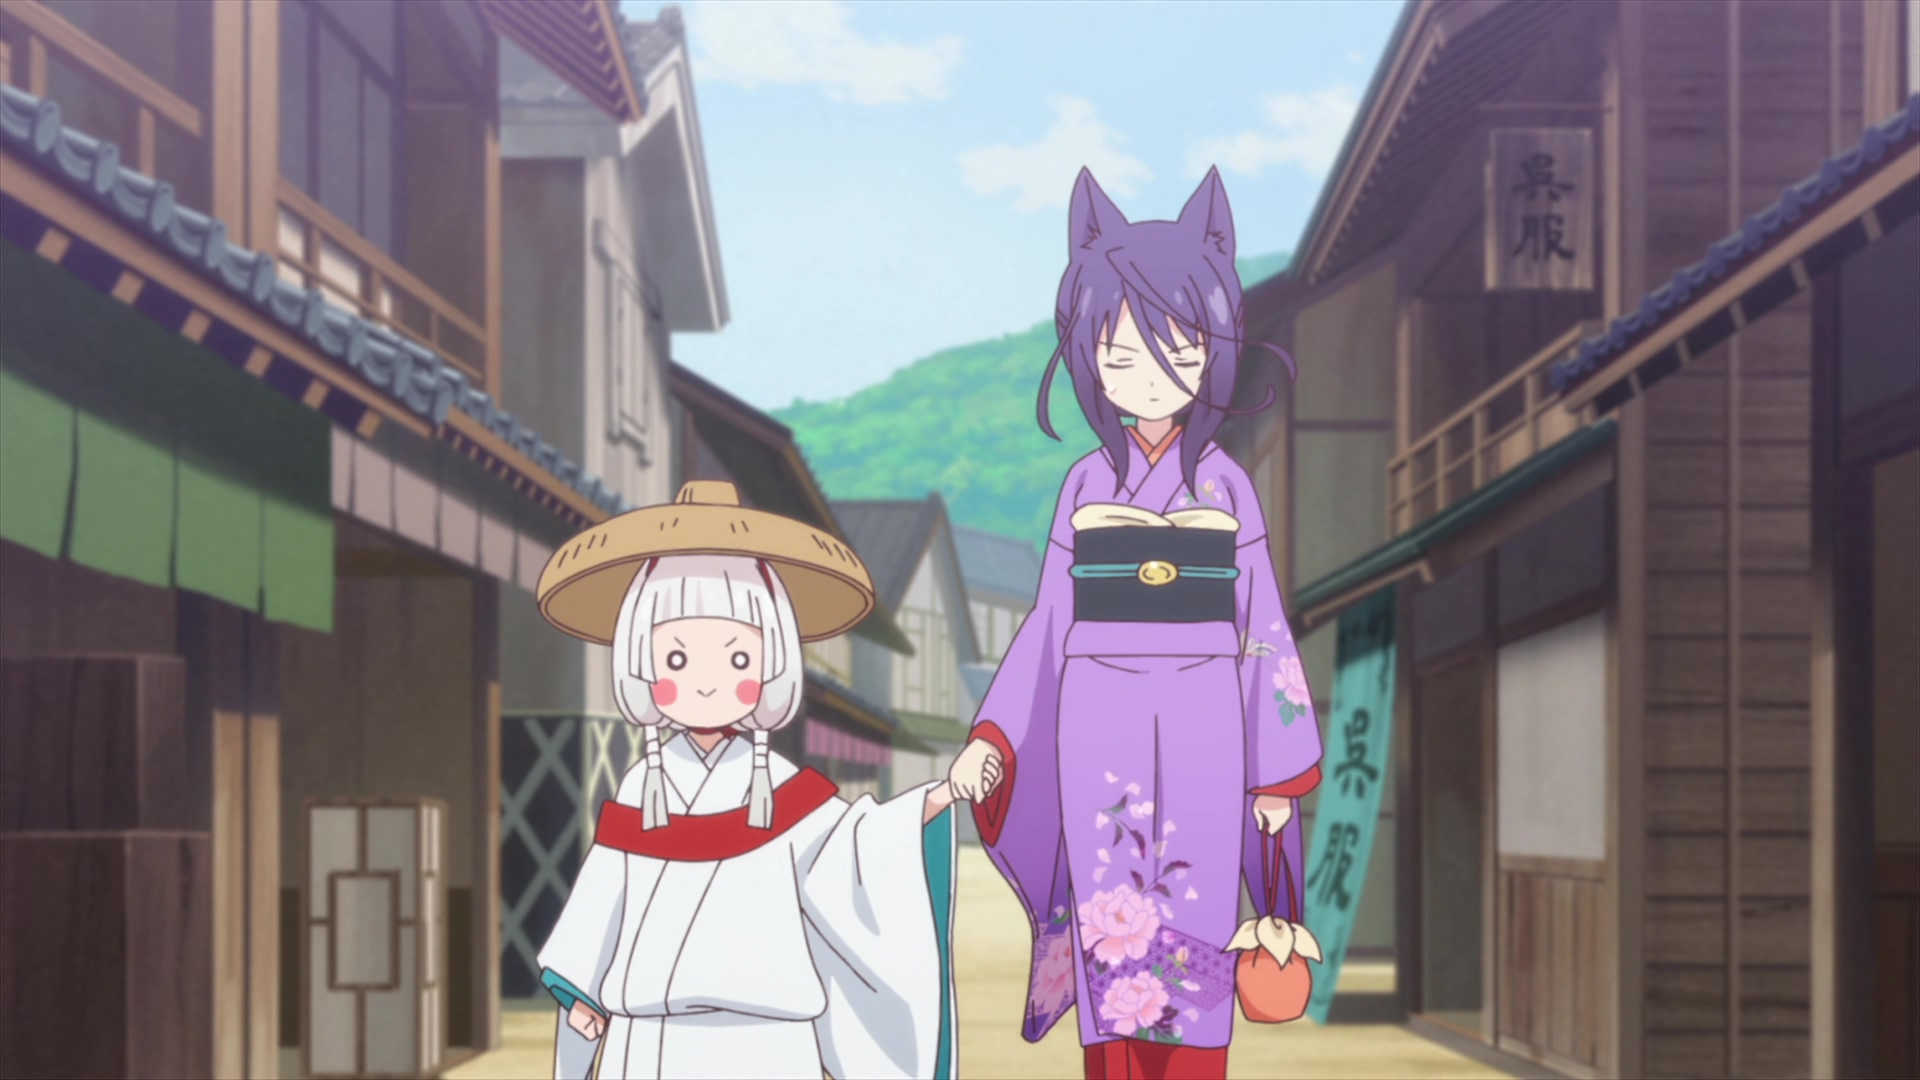其他: (535, 479, 993, 1080)
皋: (952, 167, 1321, 1080)
